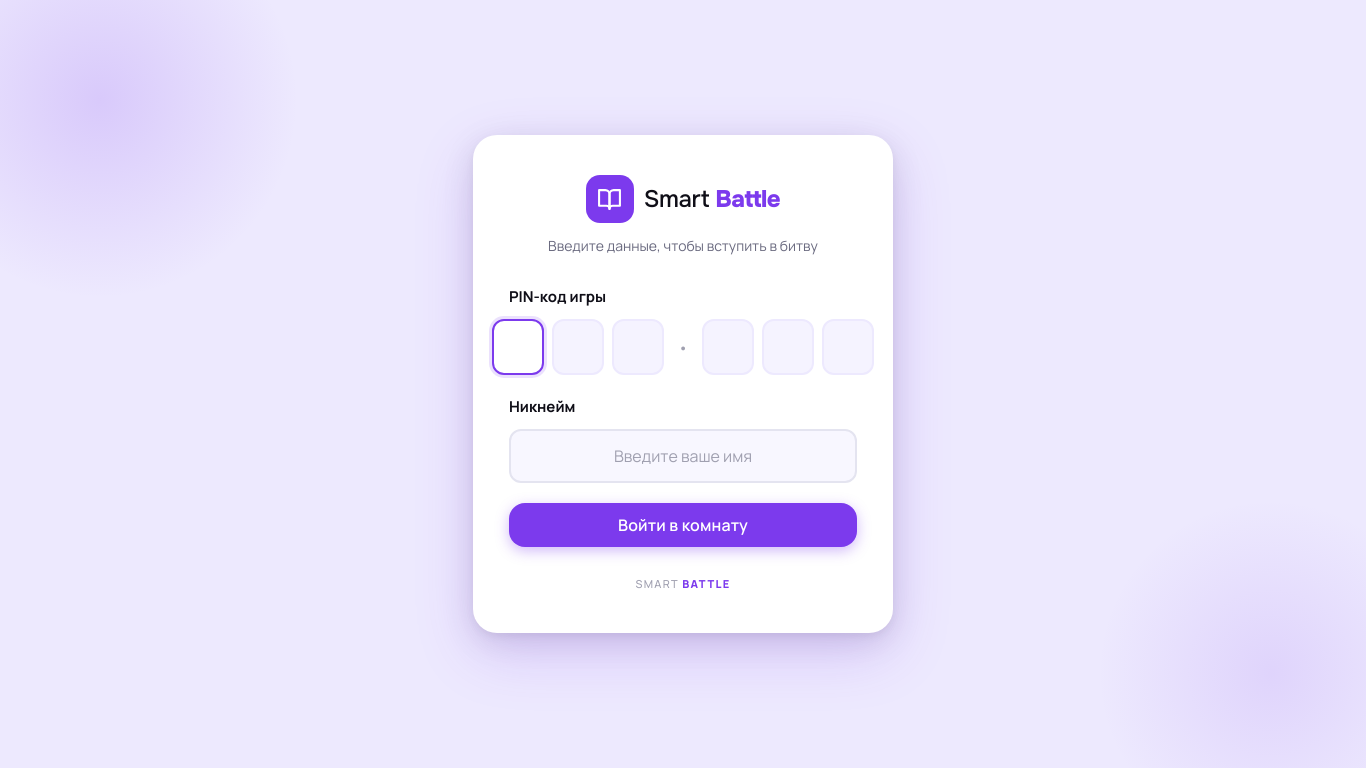
Test: JoinPage › validation › shows nickname error when nickname is too short
Type "1" into the 1st field at (518, 347), box [492,319,544,375]
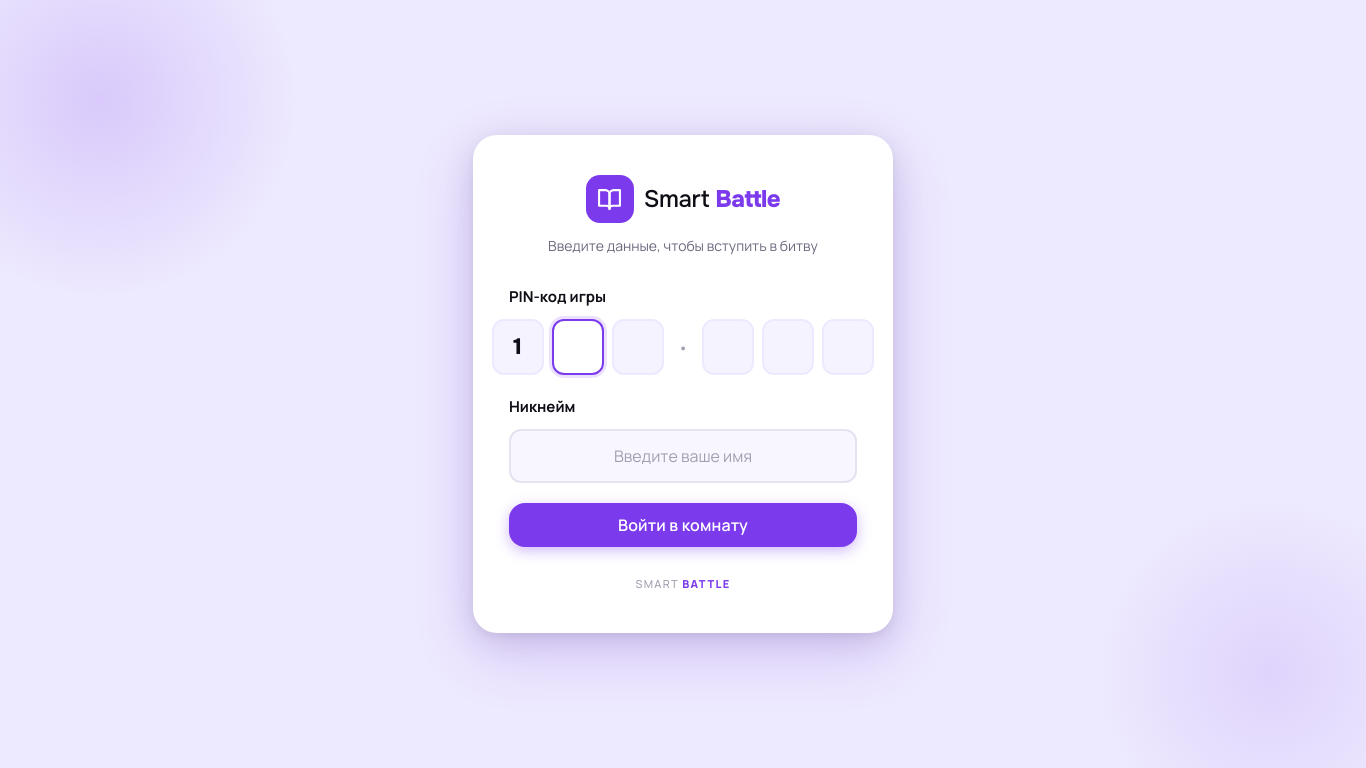
Type "2" into the 2nd field at (578, 347), box [552,319,604,375]
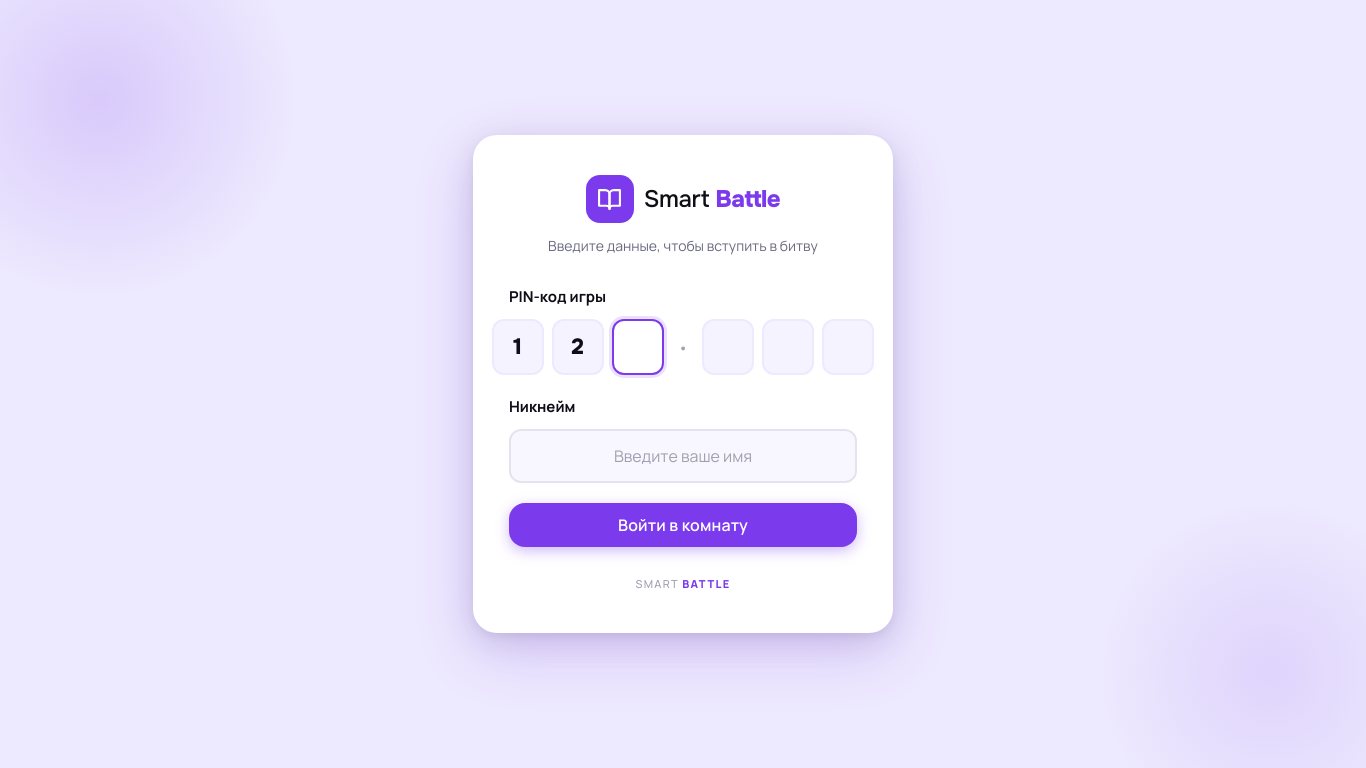
Type "3" into the 3rd field at (638, 347), box [612,319,664,375]
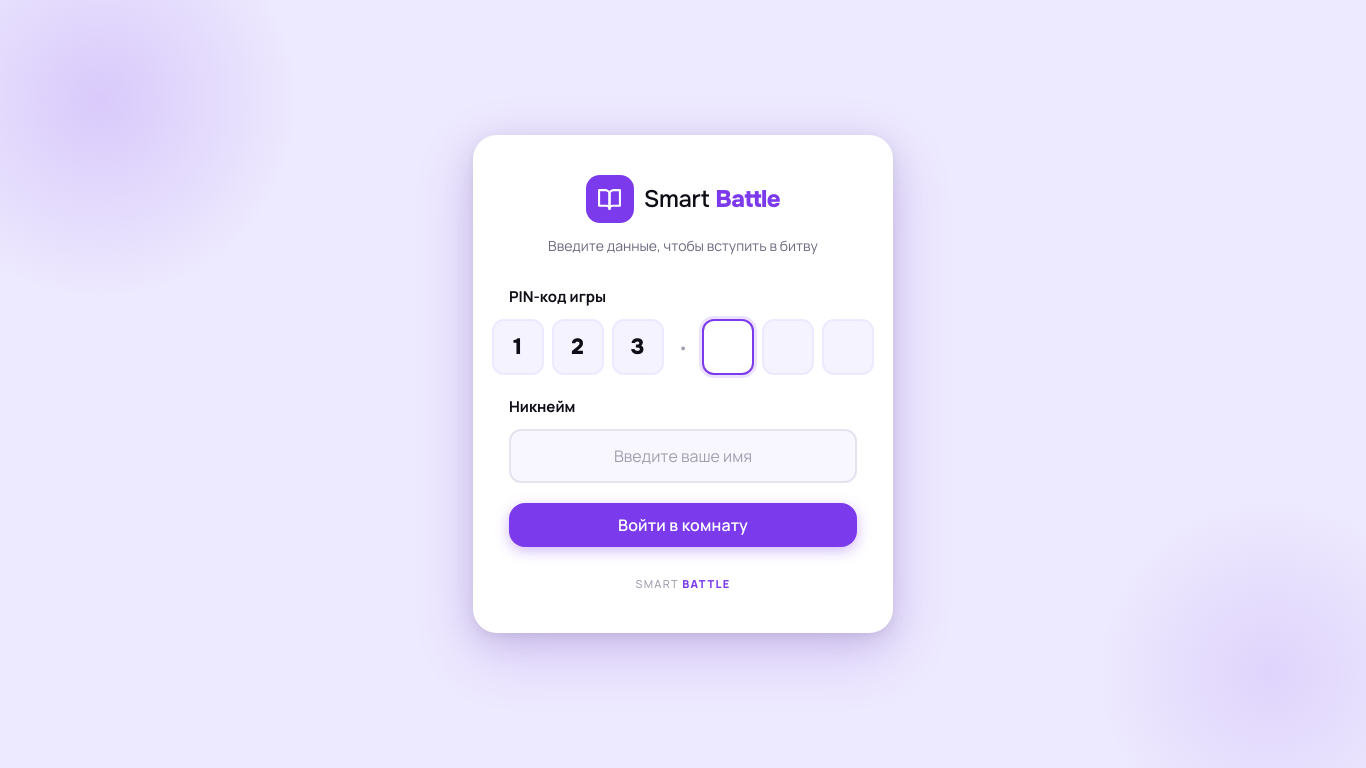
Type "4" into the 4th field at (728, 347), box [702,319,754,375]
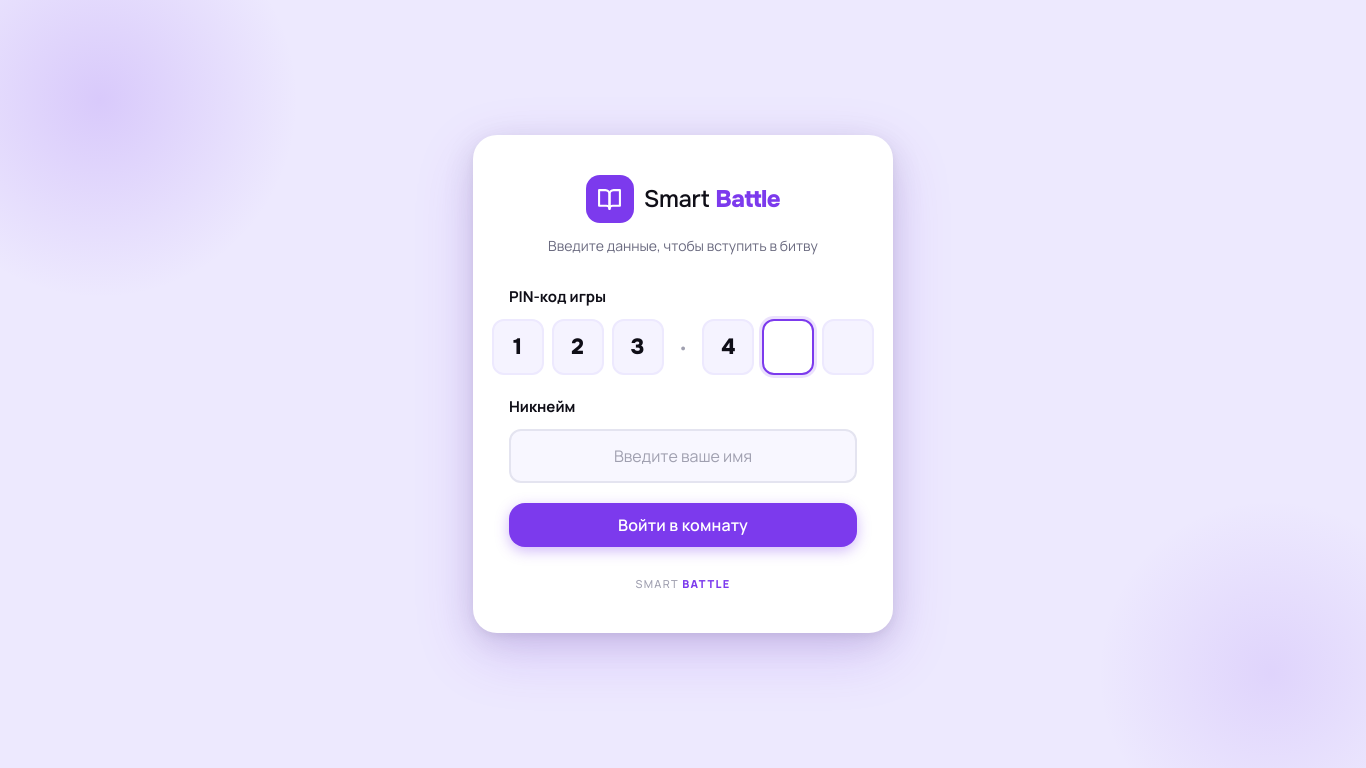
Type "5" into the 5th field at (788, 347), box [762,319,814,375]
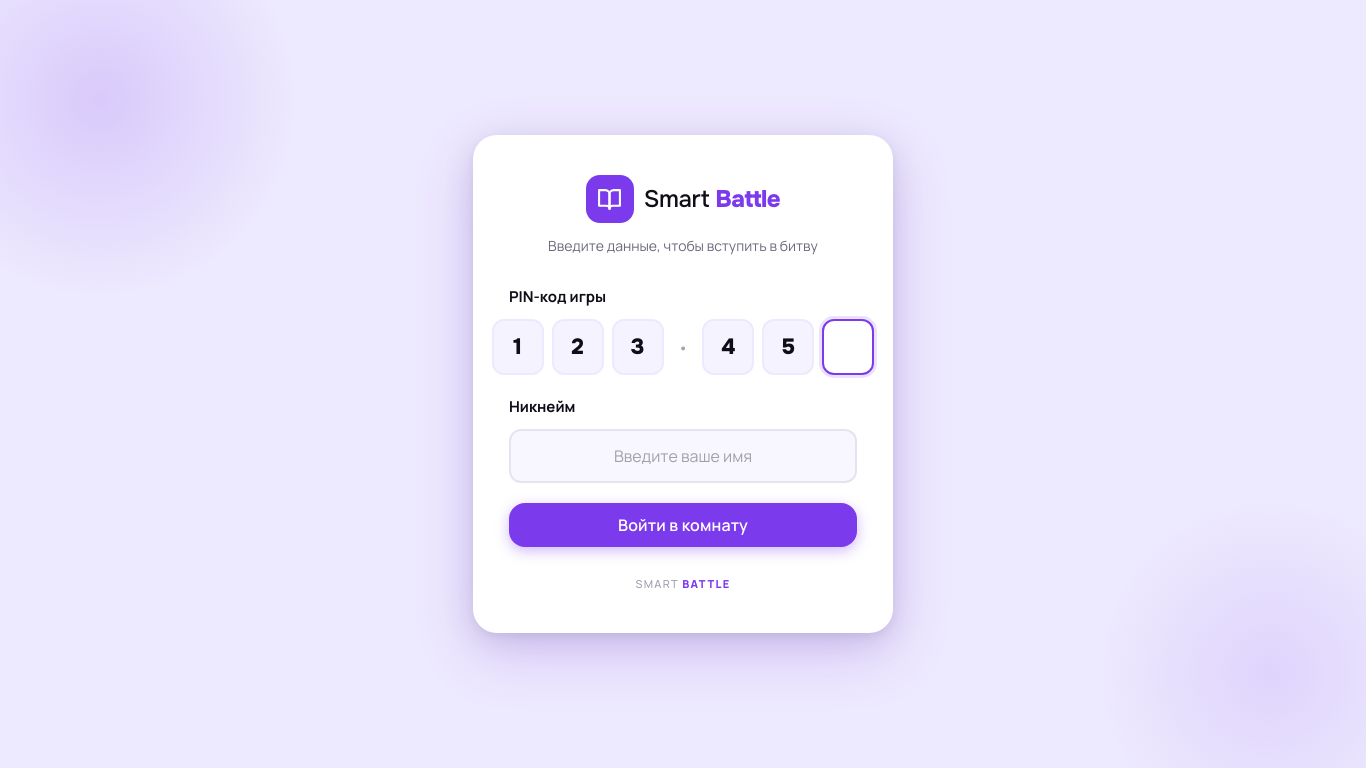
Type "6" into the 6th field at (848, 347), box [822,319,874,375]
Type "A" into the field with placeholder "Введите ваше имя" at (683, 456), box [509,429,857,483]
Click the button "Войти в комнату" at (683, 525), box [509,503,857,547]
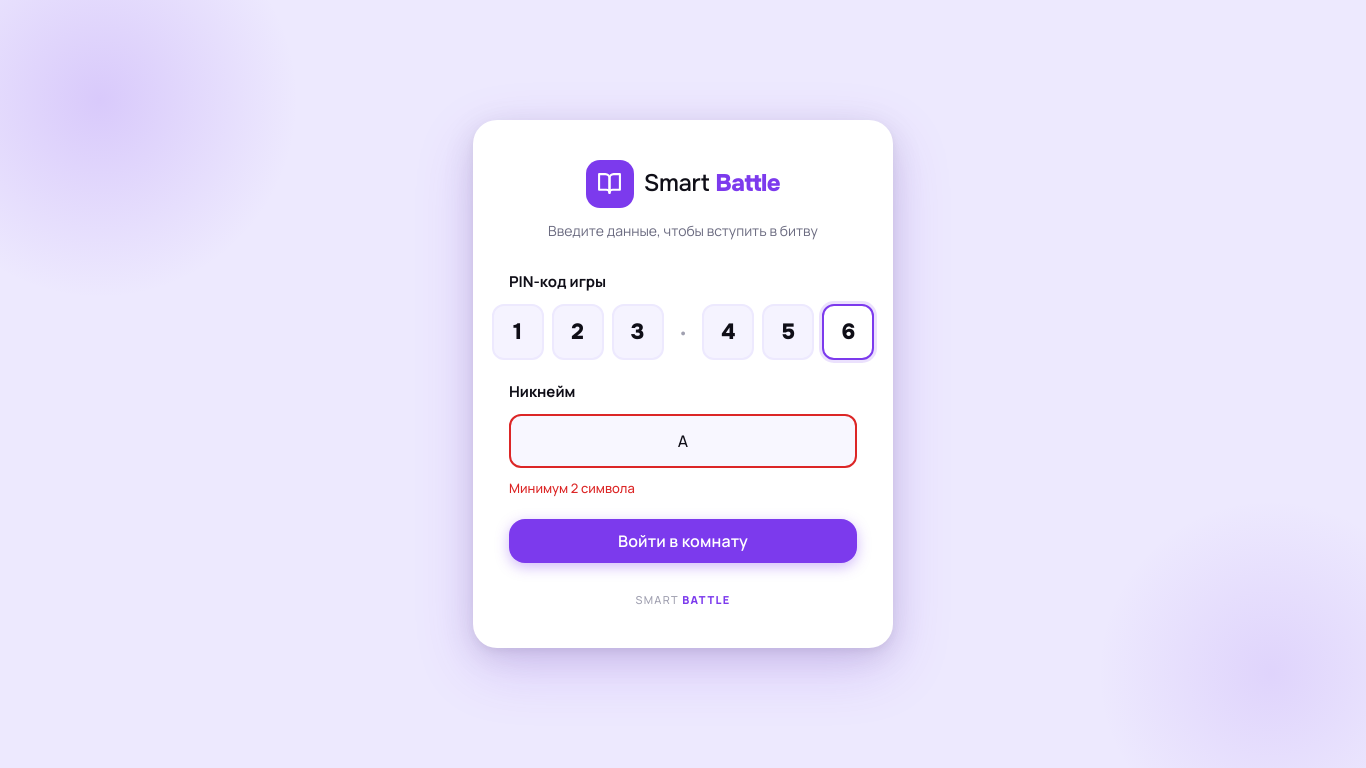
Expected: the text "Минимум 2 символа" is shown, [509,479,635,497]
